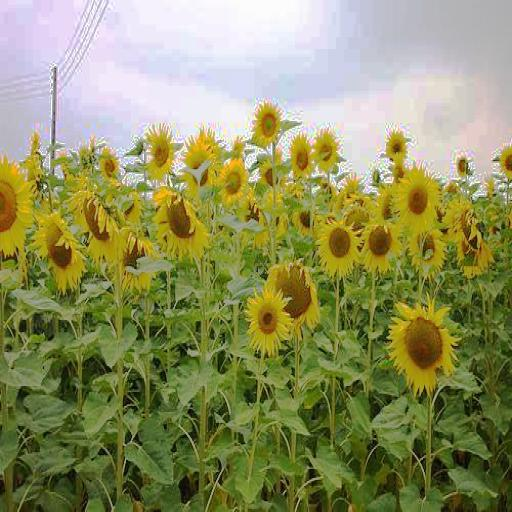sunflower: (388, 303, 456, 395), (33, 208, 85, 296), (76, 183, 128, 264), (151, 192, 208, 262), (265, 260, 320, 330), (316, 218, 360, 280), (246, 288, 289, 350), (398, 171, 442, 226), (360, 218, 402, 271), (121, 235, 158, 292), (406, 226, 446, 277), (184, 135, 220, 188), (147, 123, 174, 180), (219, 152, 248, 202), (288, 131, 313, 180), (314, 129, 340, 174), (254, 105, 282, 146), (384, 129, 409, 165), (96, 146, 120, 183), (498, 146, 512, 177)
